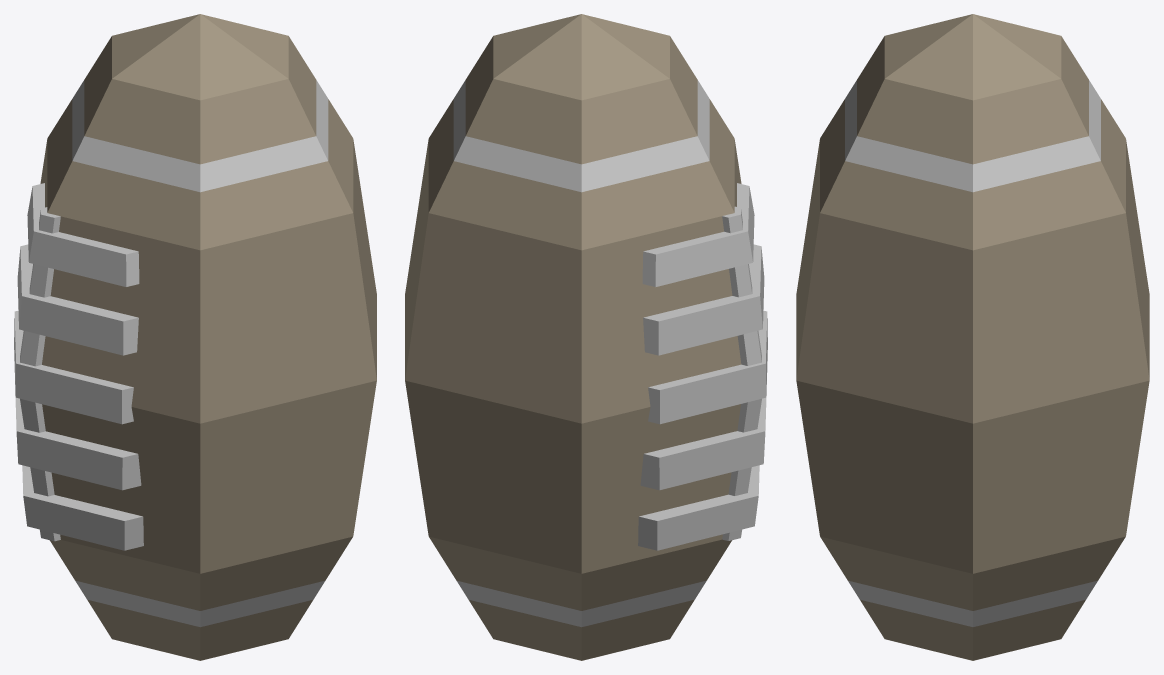
The model's file is Football.fbx.
3 views of the same model, side by side, from view 1: azimuth 30°, elevation 25°; view 2: azimuth 150°, elevation 25°; view 3: azimuth 270°, elevation 25° (orthographic).
Parts seen in each view (by area): view 1: polySurface7; view 2: polySurface7; view 3: polySurface7.
Boxes of the visible parts, bbox=[...] form: polySurface7: bbox=[14, 14, 376, 660]; polySurface7: bbox=[405, 14, 767, 660]; polySurface7: bbox=[796, 14, 1149, 660].
Size of the model in its own units: 2.05 by 3.5 by 1.73.
